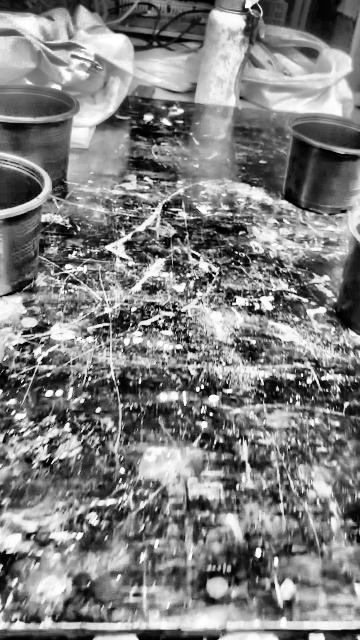pot: (1, 85, 80, 209), (287, 114, 360, 215), (0, 154, 51, 295), (337, 210, 359, 333)
